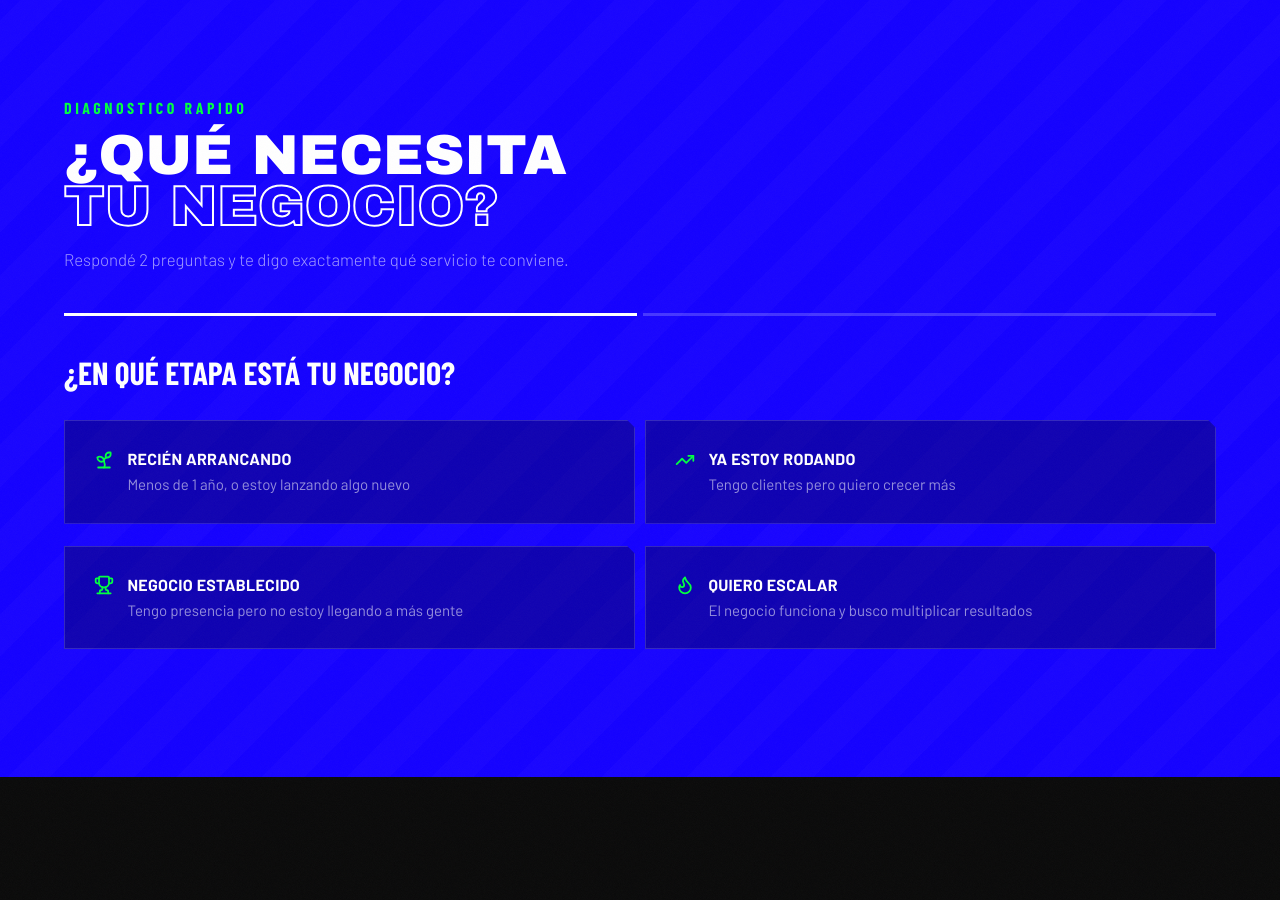
BusinessDiagnostic › returns to the initial state when reset is clicked
Click the button "Quiero escalar" at coordinates (773, 584), box [645,546,1216,649]
Wait 300 ms
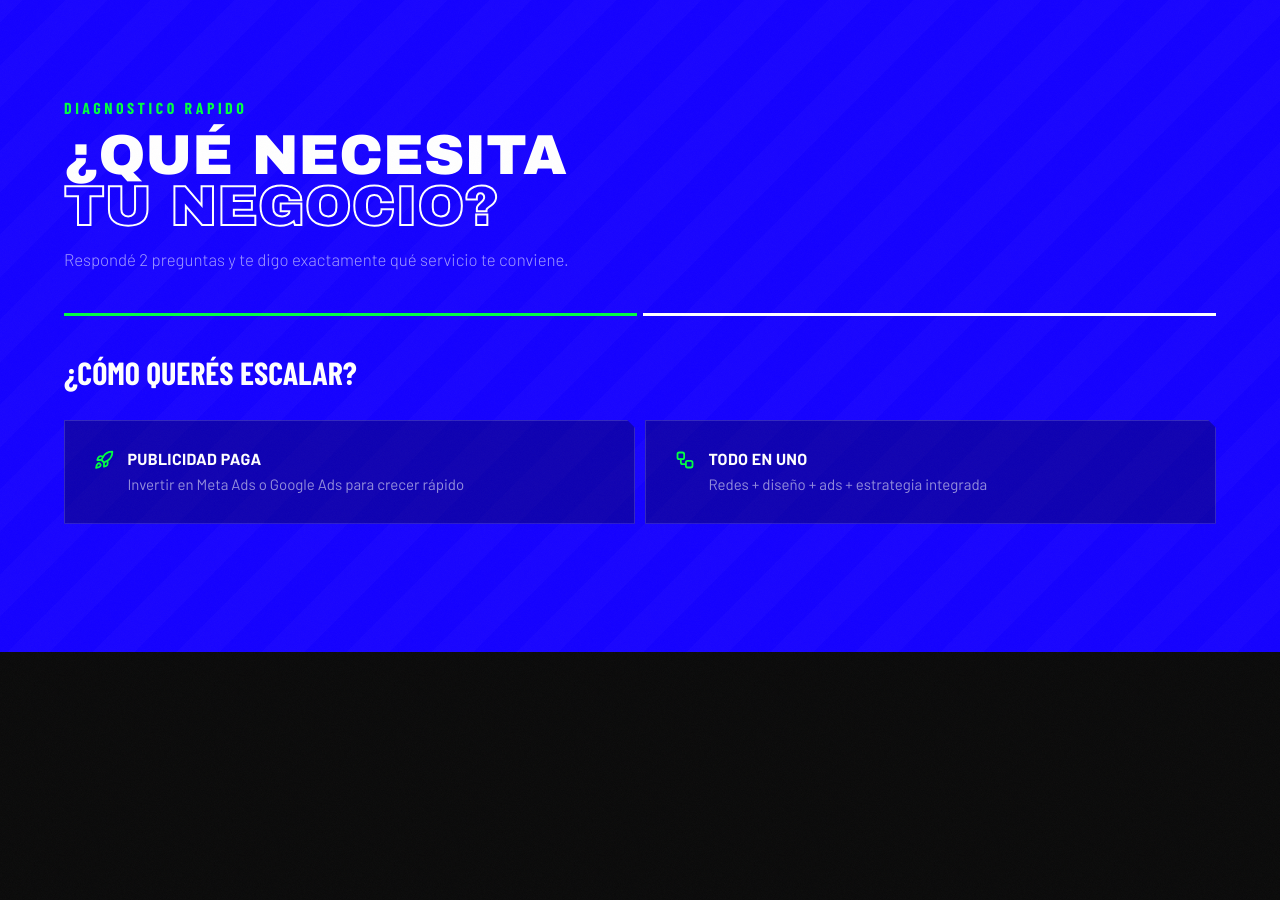
Click the button "Todo en uno Redes + diseño + ads + estrategia integrada" at coordinates (758, 459), box [645,420,1216,524]
Wait 300 ms
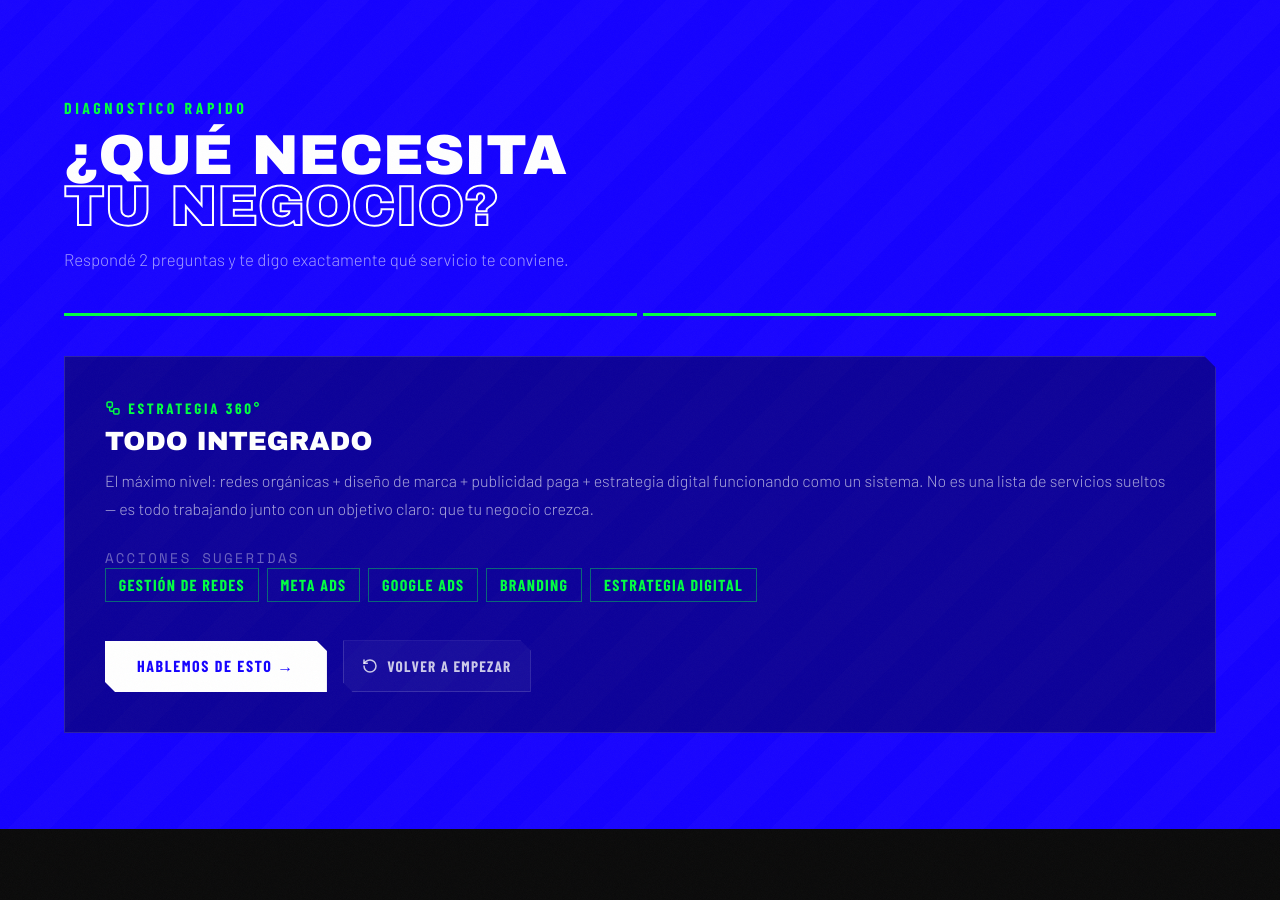
Click the button "Volver a empezar" at coordinates (437, 666), box [343,640,531,692]
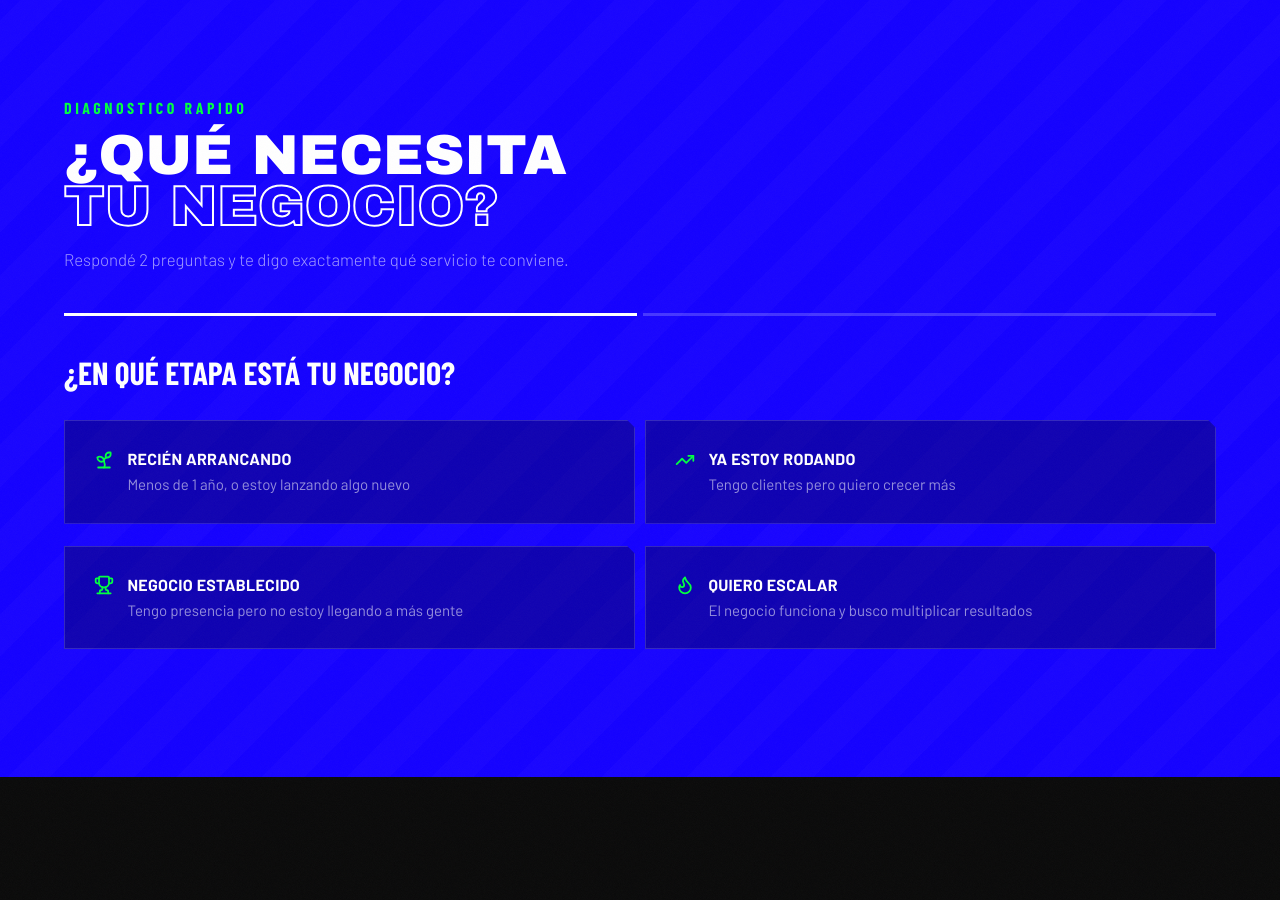
expect the text "Acciones sugeridas" is gone: met
expect the button "Volver a empezar" is gone: met
